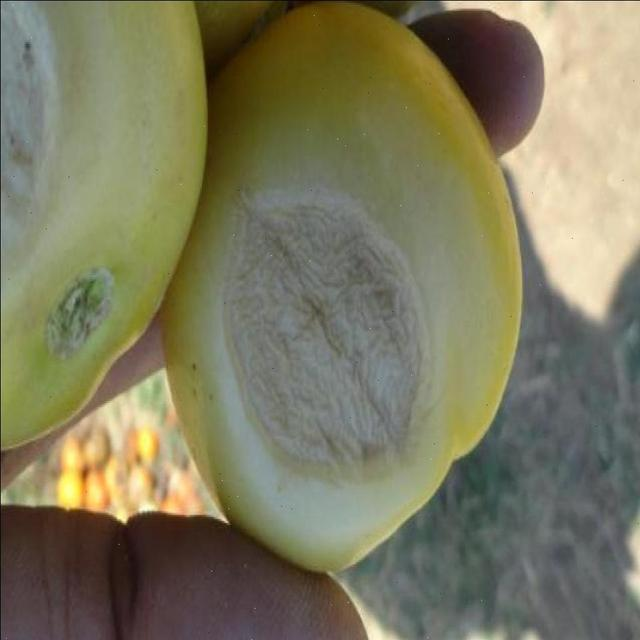Sunscald Fruit: (20, 106, 222, 229)
